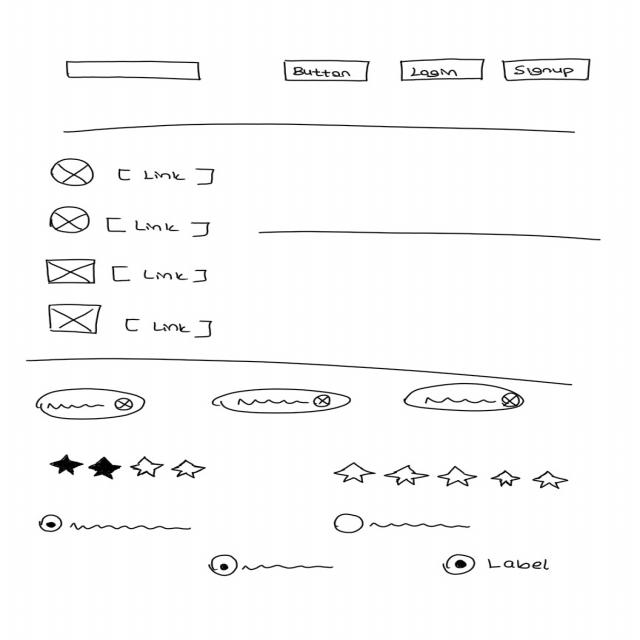button: (502, 58, 592, 83), (284, 60, 373, 84), (400, 59, 487, 83)
image: (49, 303, 104, 335), (46, 259, 98, 286), (50, 159, 97, 187), (50, 207, 92, 235)
input: (65, 60, 205, 83)
link: (108, 217, 215, 241), (125, 318, 217, 342), (111, 264, 210, 286), (117, 168, 218, 187)
radio: (39, 514, 196, 534), (334, 513, 474, 535), (442, 552, 556, 578), (209, 555, 336, 577)
